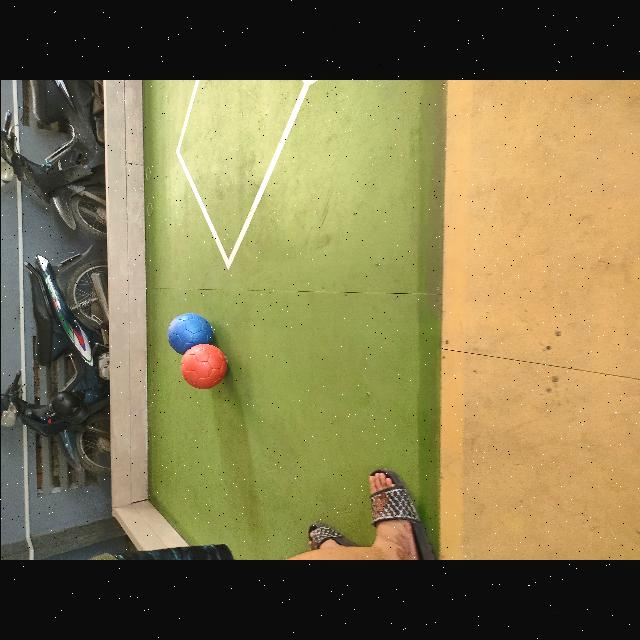B: (166, 313, 212, 355)
R: (179, 343, 226, 389)
